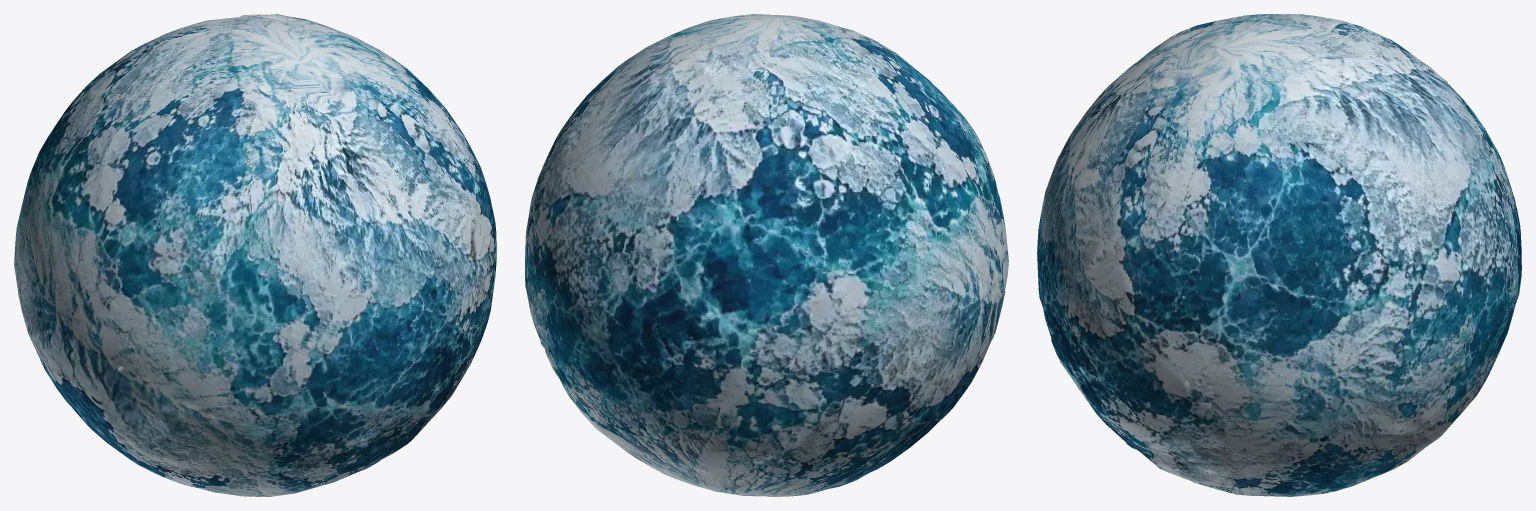
File: planet_2.glb
The picture shows the model from 3 angles, left to right: view 1: azimuth 30°, elevation 25°; view 2: azimuth 150°, elevation 25°; view 3: azimuth 270°, elevation 25°; orthographic projection.
Visible parts, largest first — view 1: Mesh_0.001; view 2: Mesh_0.001; view 3: Mesh_0.001.
Part boxes in pixels (box(x1,y1,x2,y2)): Mesh_0.001: box(14, 14, 496, 496); Mesh_0.001: box(525, 14, 1008, 496); Mesh_0.001: box(1037, 14, 1521, 496).
Bounding box in the file's own units: 1.9 × 1.9 × 1.9.
Materials: 1 (1 with a texture image).
